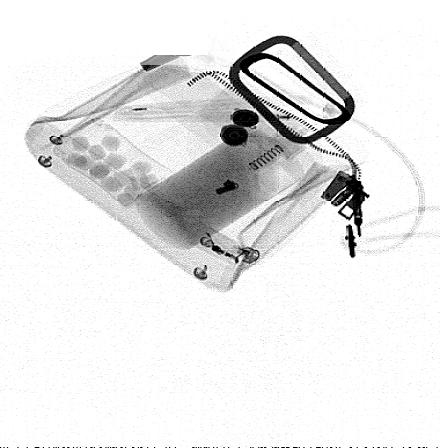Lighter: (178, 220, 261, 267)
